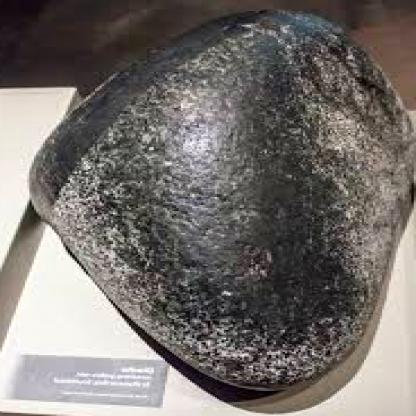Igneous_Diorite: (20, 1, 414, 413)
